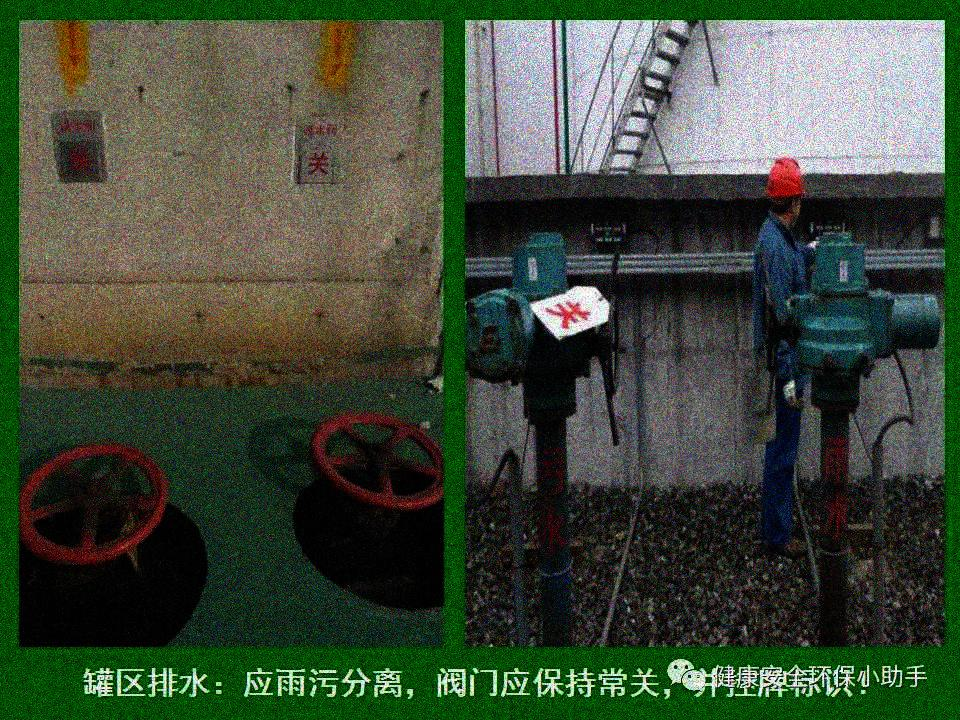helmet: (763, 155, 807, 226)
